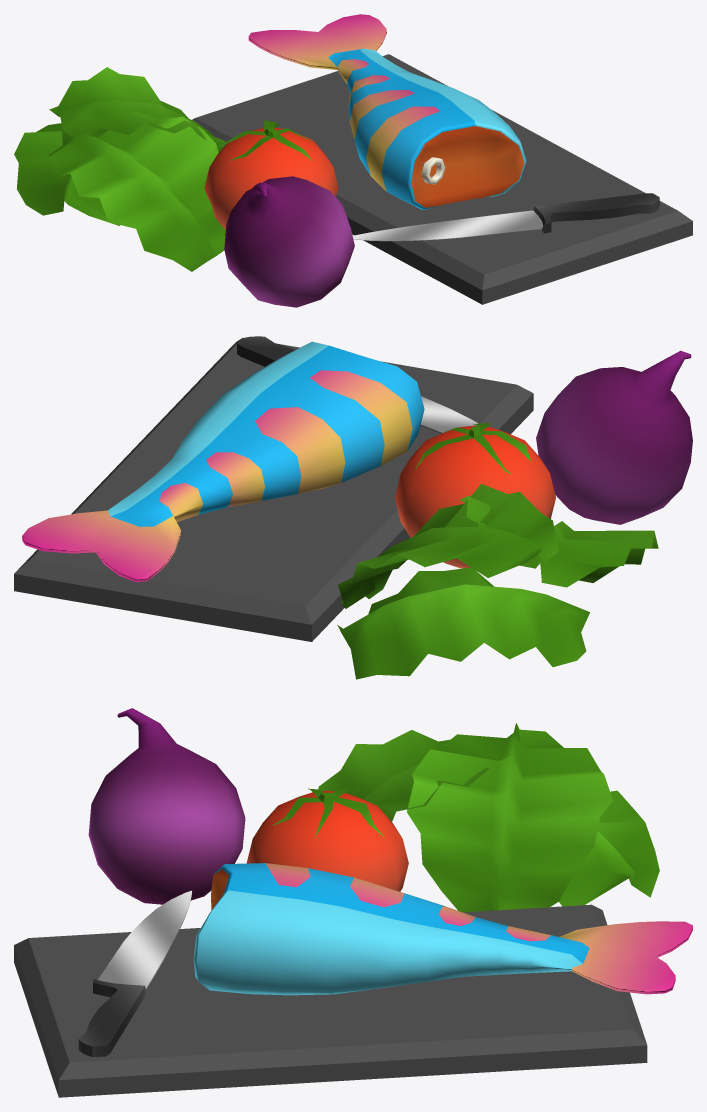
File: Station Fish salad.fbx
The picture shows the model from 3 angles, top to bottom: view 1: azimuth 30°, elevation 25°; view 2: azimuth 150°, elevation 25°; view 3: azimuth 270°, elevation 25°; orthographic projection. The views are drawn at different scales.
Visible parts, largest first — view 1: Station_Fish_salad; view 2: Station_Fish_salad; view 3: Station_Fish_salad.
Part boxes in pixels (box(x1,y1,x2,y2)): Station_Fish_salad: box(14, 14, 692, 307); Station_Fish_salad: box(14, 336, 692, 679); Station_Fish_salad: box(14, 708, 692, 1097).
Size of the model in its own units: 181 by 50.69 by 184.
